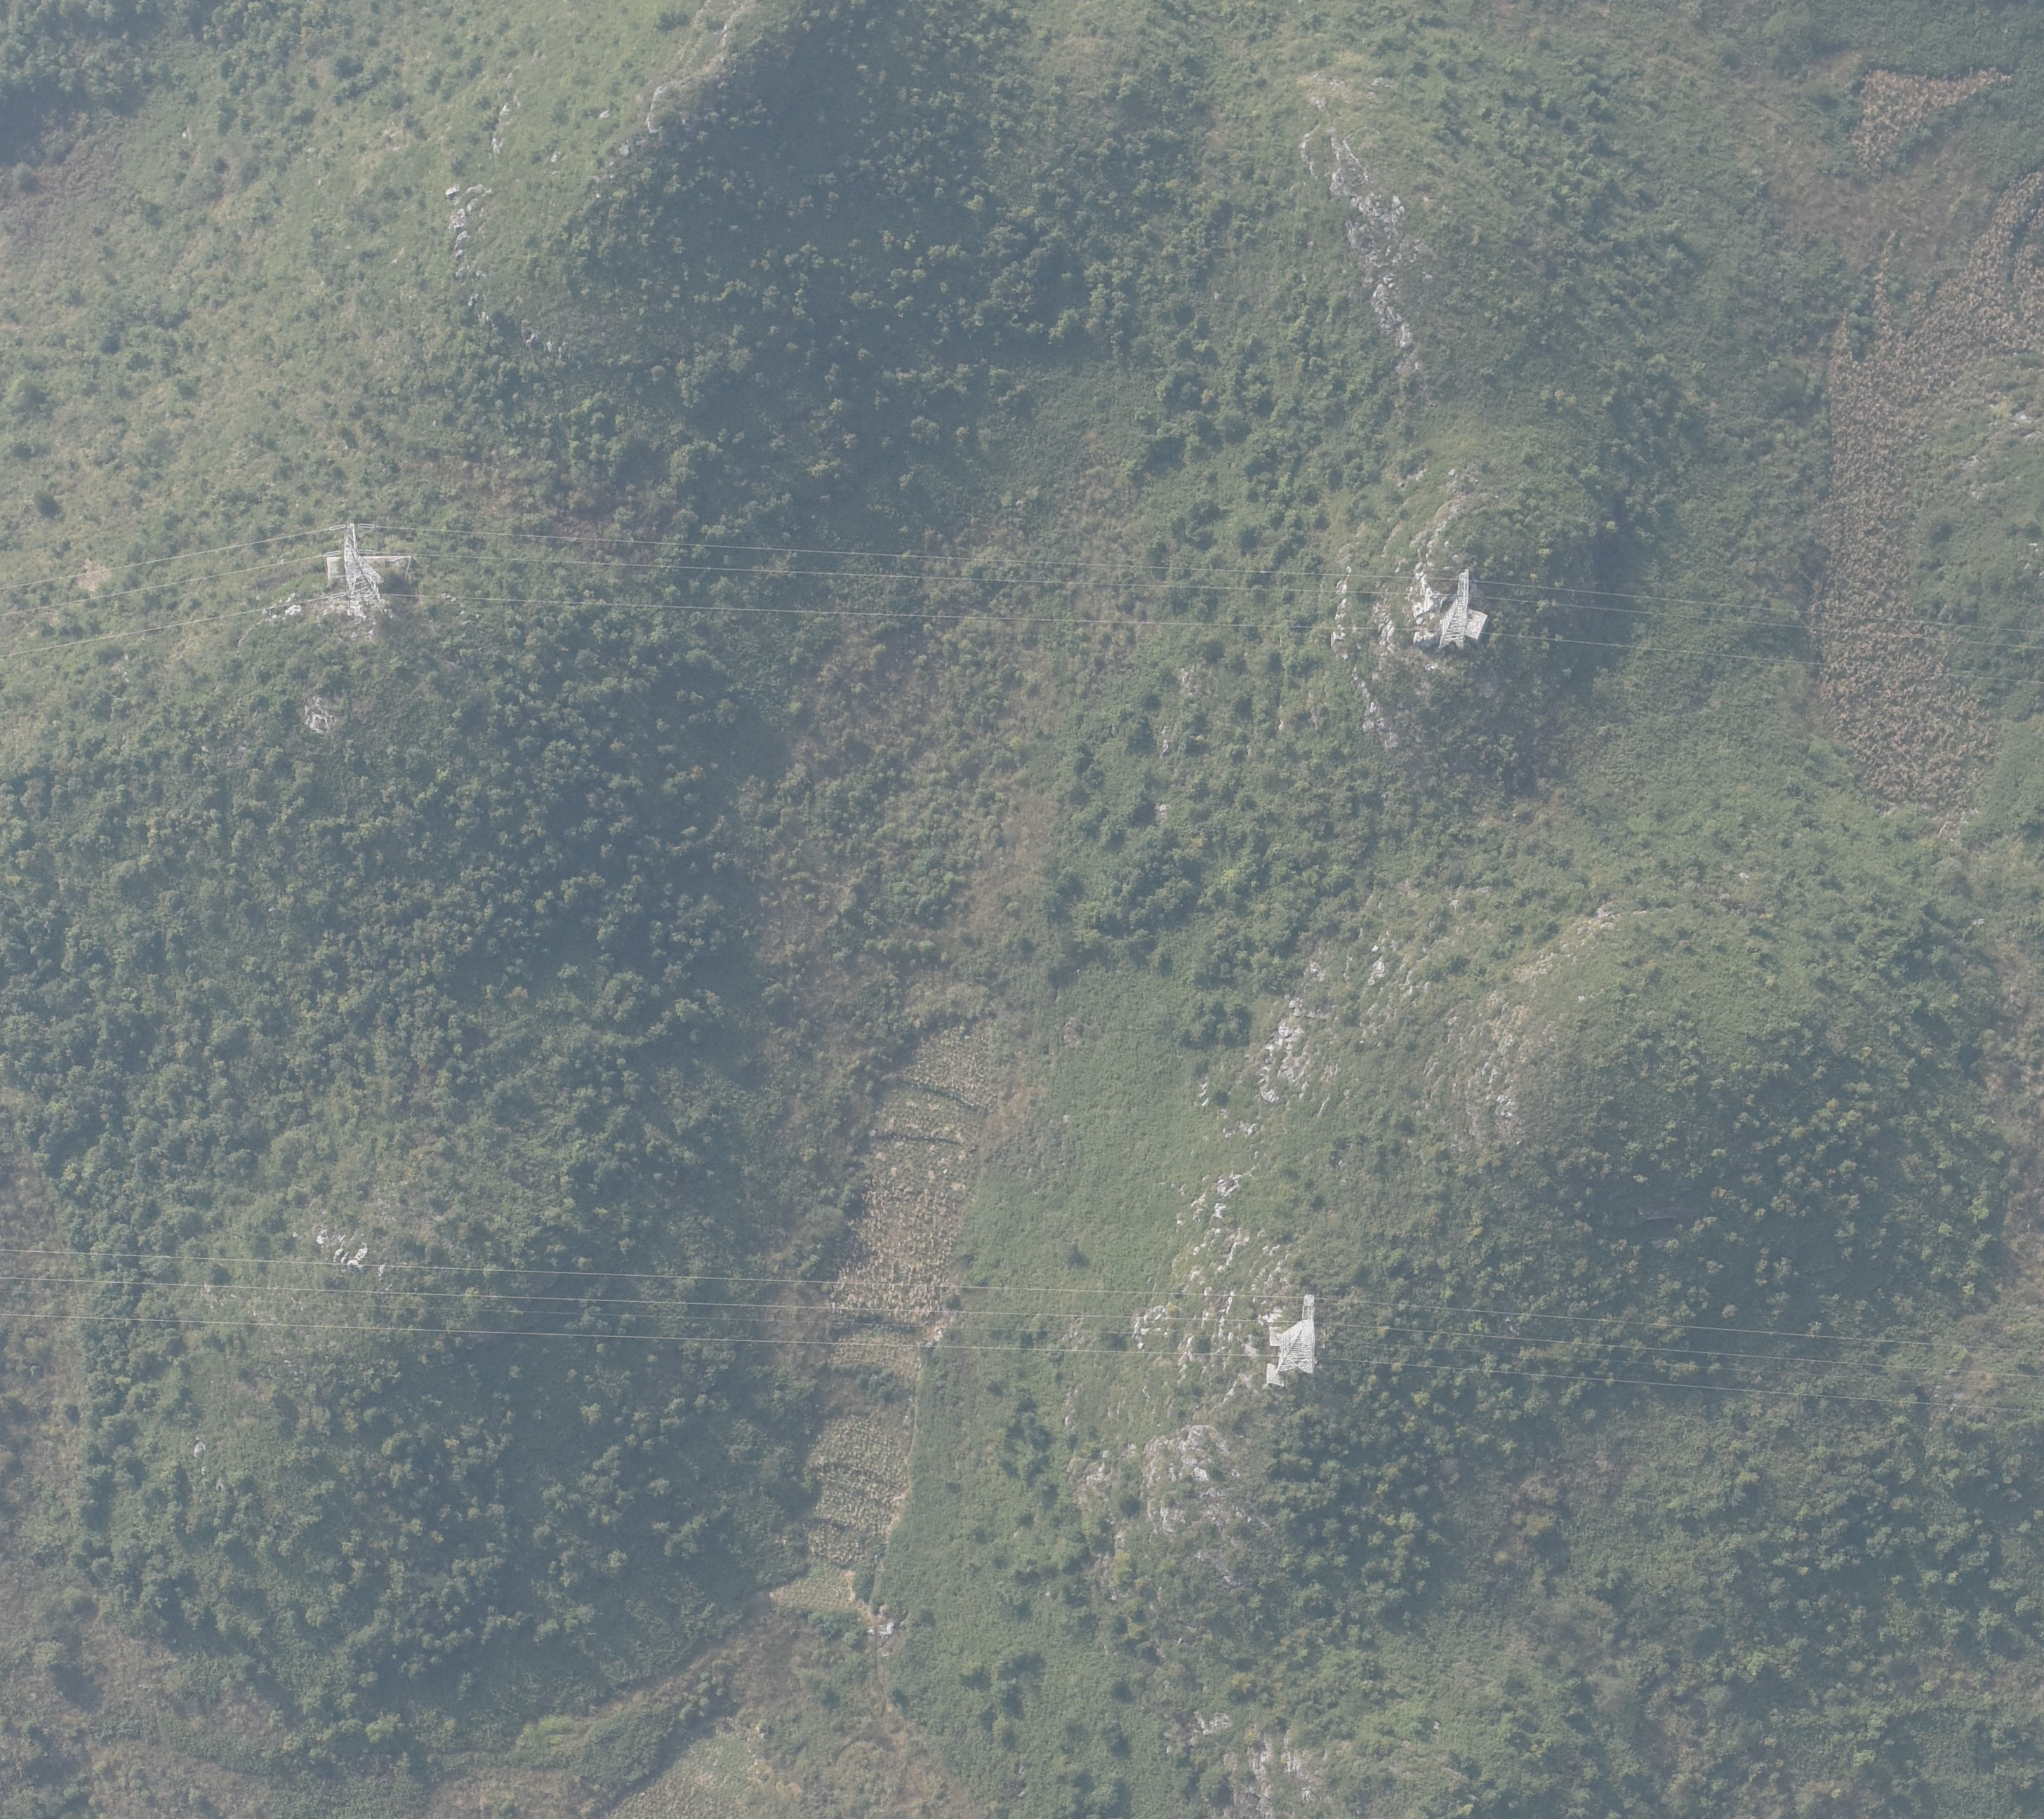cable-tower: (328, 523, 384, 613), (1265, 1295, 1314, 1385), (1437, 570, 1487, 649)
